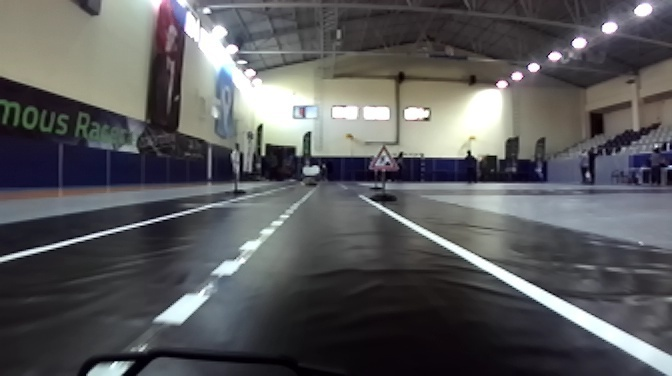yol_yapimi: (367, 140, 398, 172)
